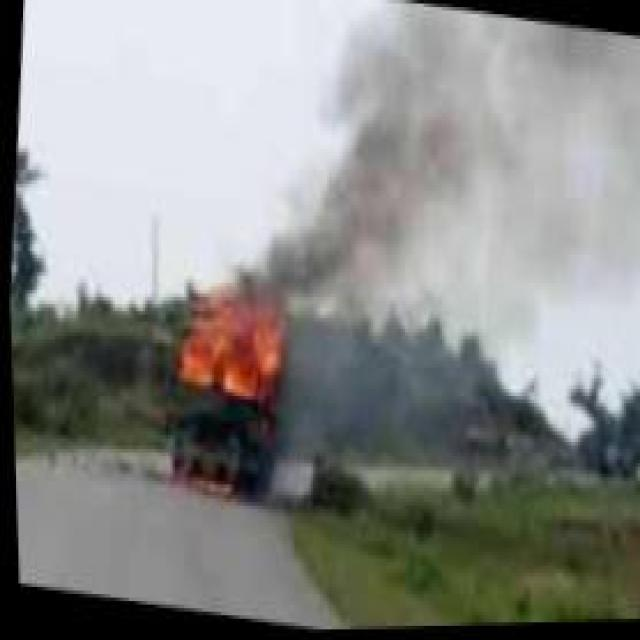Fire: (154, 268, 304, 424)
Smoke: (230, 0, 637, 371)
